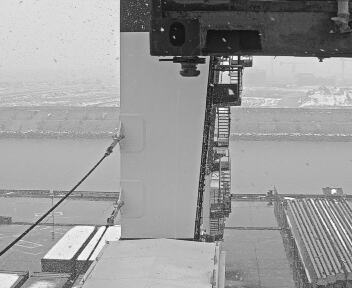twist_lock_1: (164, 51, 211, 85)
